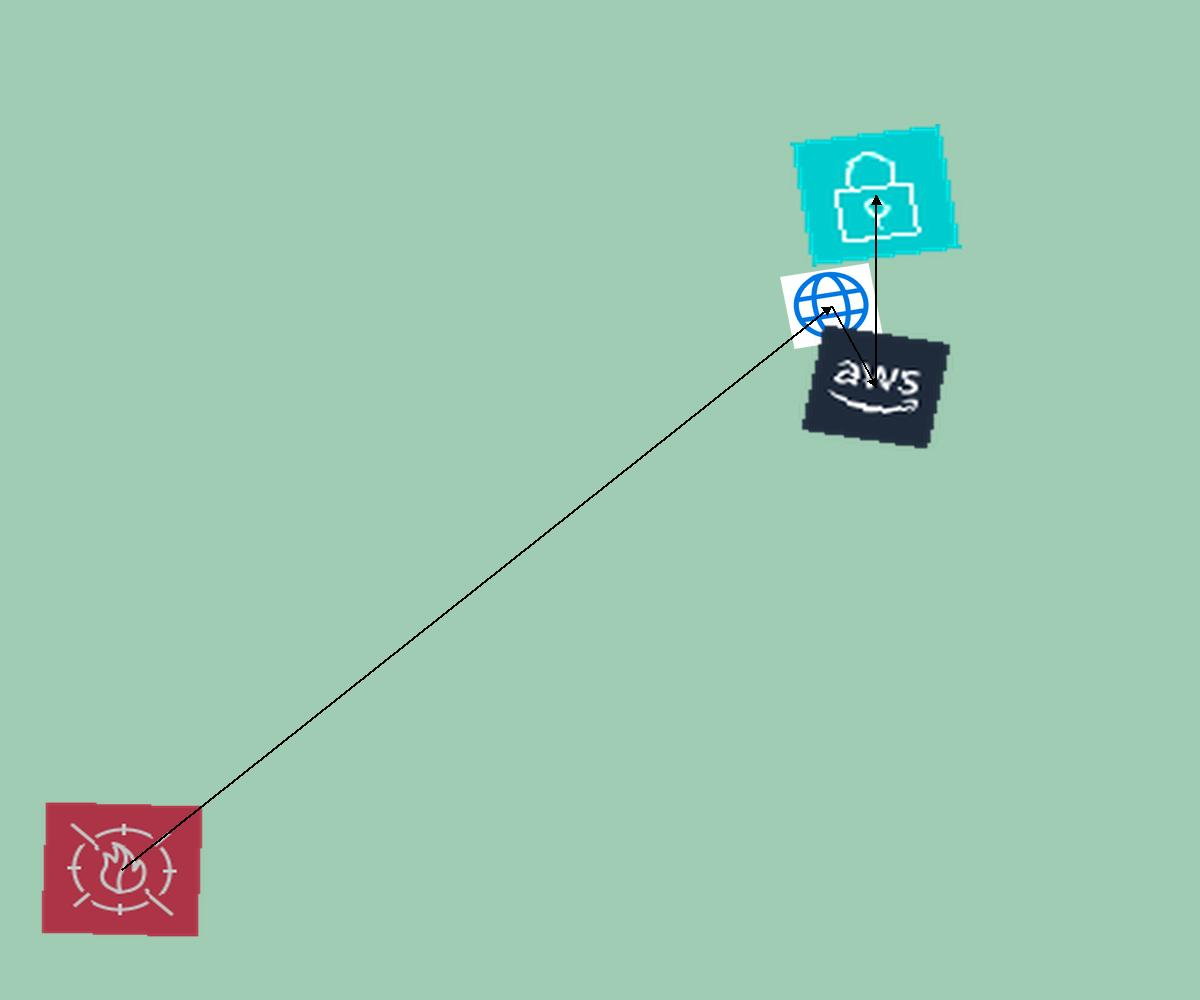AWS-Cloud-logo: (799, 323, 953, 451)
AWS-Private-subnet: (790, 124, 962, 267)
AWS-WAF: (40, 801, 204, 938)
Azure_http: (780, 263, 883, 349)
